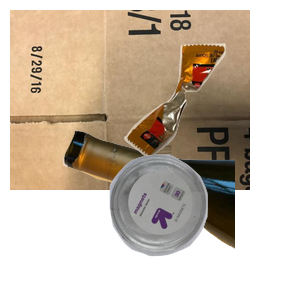cardboard: (10, 10, 250, 190)
glass: (60, 128, 300, 300)
plastic: (107, 152, 300, 300)
trash: (122, 41, 300, 190)
